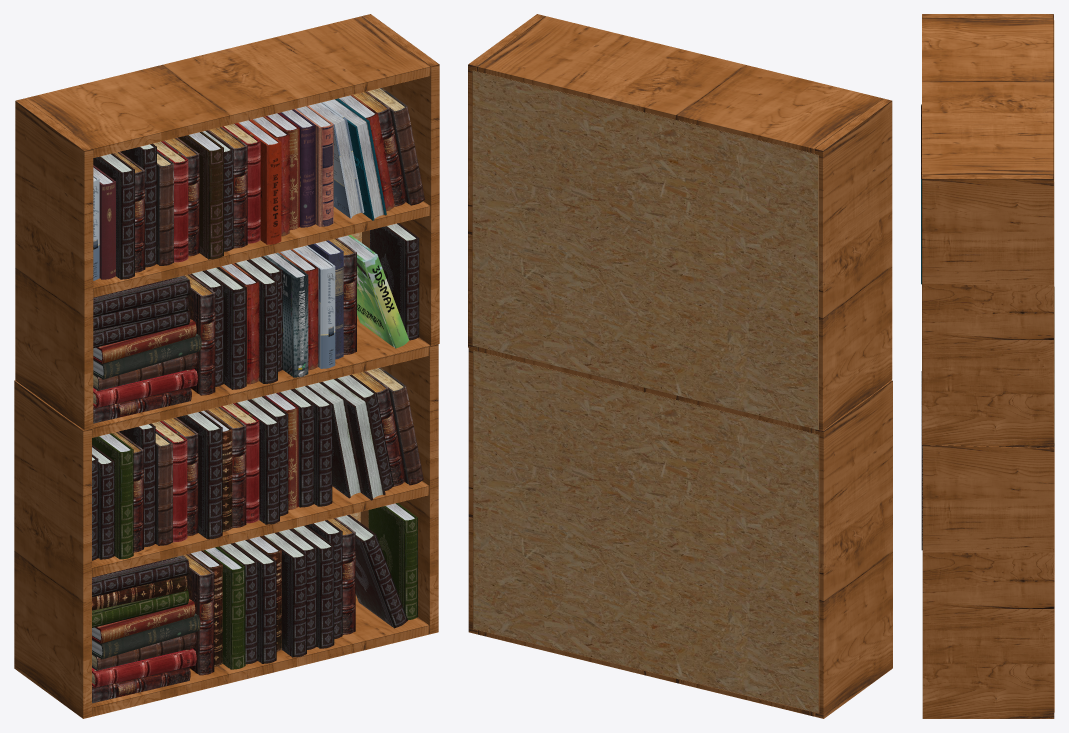
The model's file is bookshelf.fbx.
The picture shows the model from 3 angles, left to right: view 1: azimuth 30°, elevation 25°; view 2: azimuth 150°, elevation 25°; view 3: azimuth 270°, elevation 25°; orthographic projection. The views are drawn at different scales.
Parts seen in each view (by area): view 1: bookshelf; view 2: bookshelf; view 3: bookshelf.
Part boxes in pixels (x1,y1,x2,y2): bookshelf: [14, 14, 439, 718]; bookshelf: [468, 14, 892, 718]; bookshelf: [921, 14, 1054, 718].
Bounding box in the file's own units: 4013 × 6109 × 1371.
